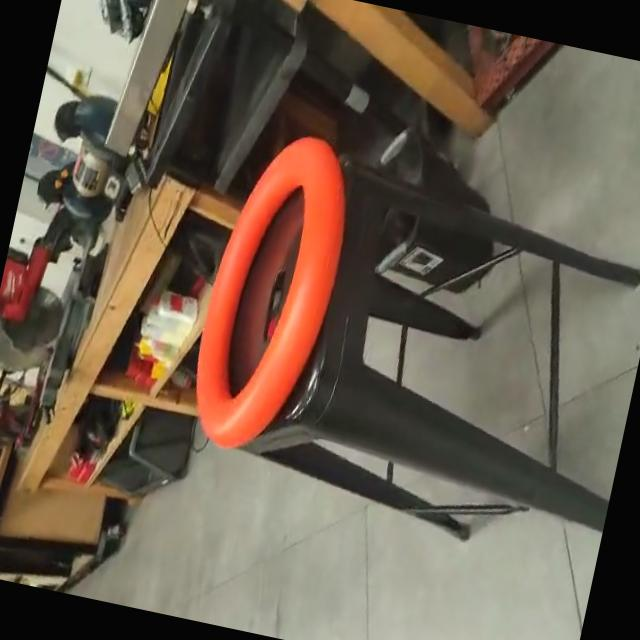note: (179, 122, 366, 466)
